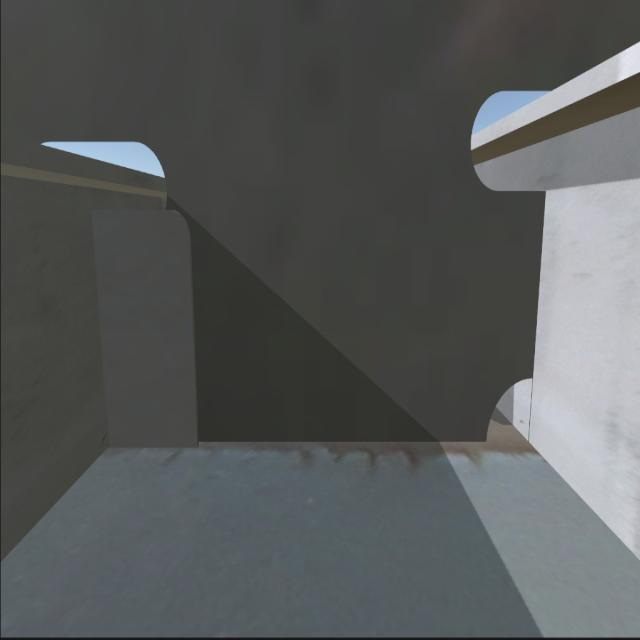fillet_hole: (484, 376, 536, 449)
fillet_yong_jeop_jang: (105, 442, 492, 449)
longi_yong_jeop_jang: (89, 216, 111, 445), (532, 194, 544, 376)
plate_CP05: (94, 208, 192, 453)
